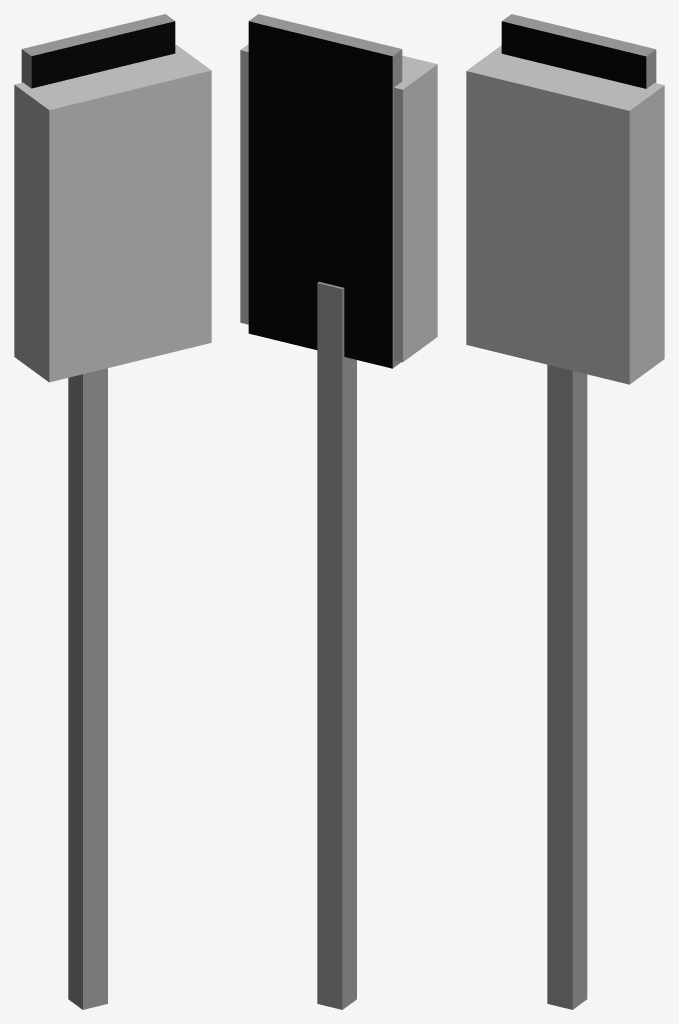
File: pkeSign.obj
3 renders of one model, left to right at view 1: azimuth 30°, elevation 25°; view 2: azimuth 150°, elevation 25°; view 3: azimuth 330°, elevation 25°, orthographic.
Visible parts, largest first — view 1: Cube.001, Cube.002, Cube_Cube.003; view 2: Cube_Cube.003, Cube.002, Cube.001; view 3: Cube.001, Cube.002, Cube_Cube.003.
Part boxes in pixels (left/top/right/bottom): Cube.001: left=14, top=45, right=211, bottom=382; Cube.002: left=68, top=368, right=107, bottom=1009; Cube_Cube.003: left=21, top=14, right=175, bottom=88; Cube_Cube.003: left=248, top=14, right=402, bottom=368; Cube.002: left=317, top=282, right=356, bottom=1009; Cube.001: left=240, top=44, right=437, bottom=362; Cube.001: left=466, top=45, right=664, bottom=384; Cube.002: left=547, top=364, right=587, bottom=1009; Cube_Cube.003: left=501, top=14, right=656, bottom=88.
Bounding box in the file's own units: 1.27 × 7.19 × 0.5143.
